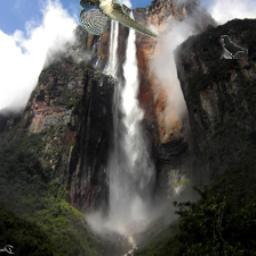Crow: (221, 36, 248, 60)
Swallow: (80, 0, 167, 39)
